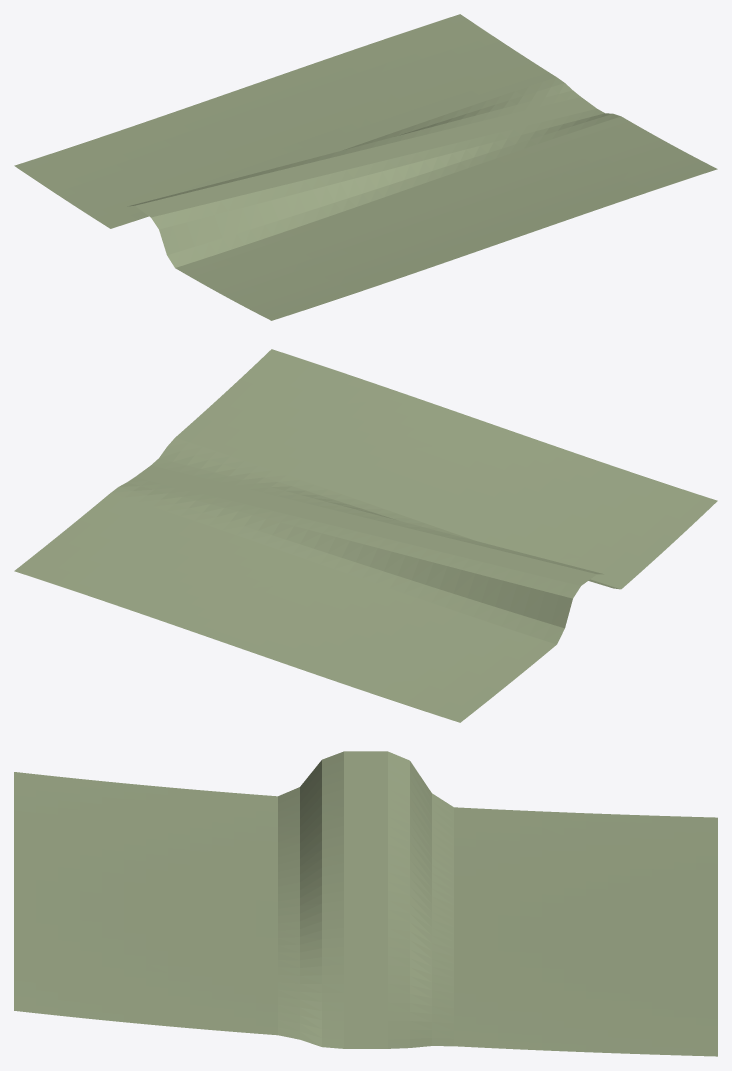
Rendered from valley-5-12.glb.
3 views of the same model, one above another, from view 1: azimuth 30°, elevation 25°; view 2: azimuth 150°, elevation 25°; view 3: azimuth 270°, elevation 25° (orthographic). The views are drawn at different scales.
Visible parts, largest first — view 1: valley-5-12; view 2: valley-5-12; view 3: valley-5-12.
Boxes of the visible parts, x1=… form: valley-5-12: x1=14, y1=14, x2=717, y2=320; valley-5-12: x1=14, y1=349, x2=717, y2=722; valley-5-12: x1=14, y1=751, x2=717, y2=1056.
Bounding box in the file's own units: 256 × 41.84 × 256.
